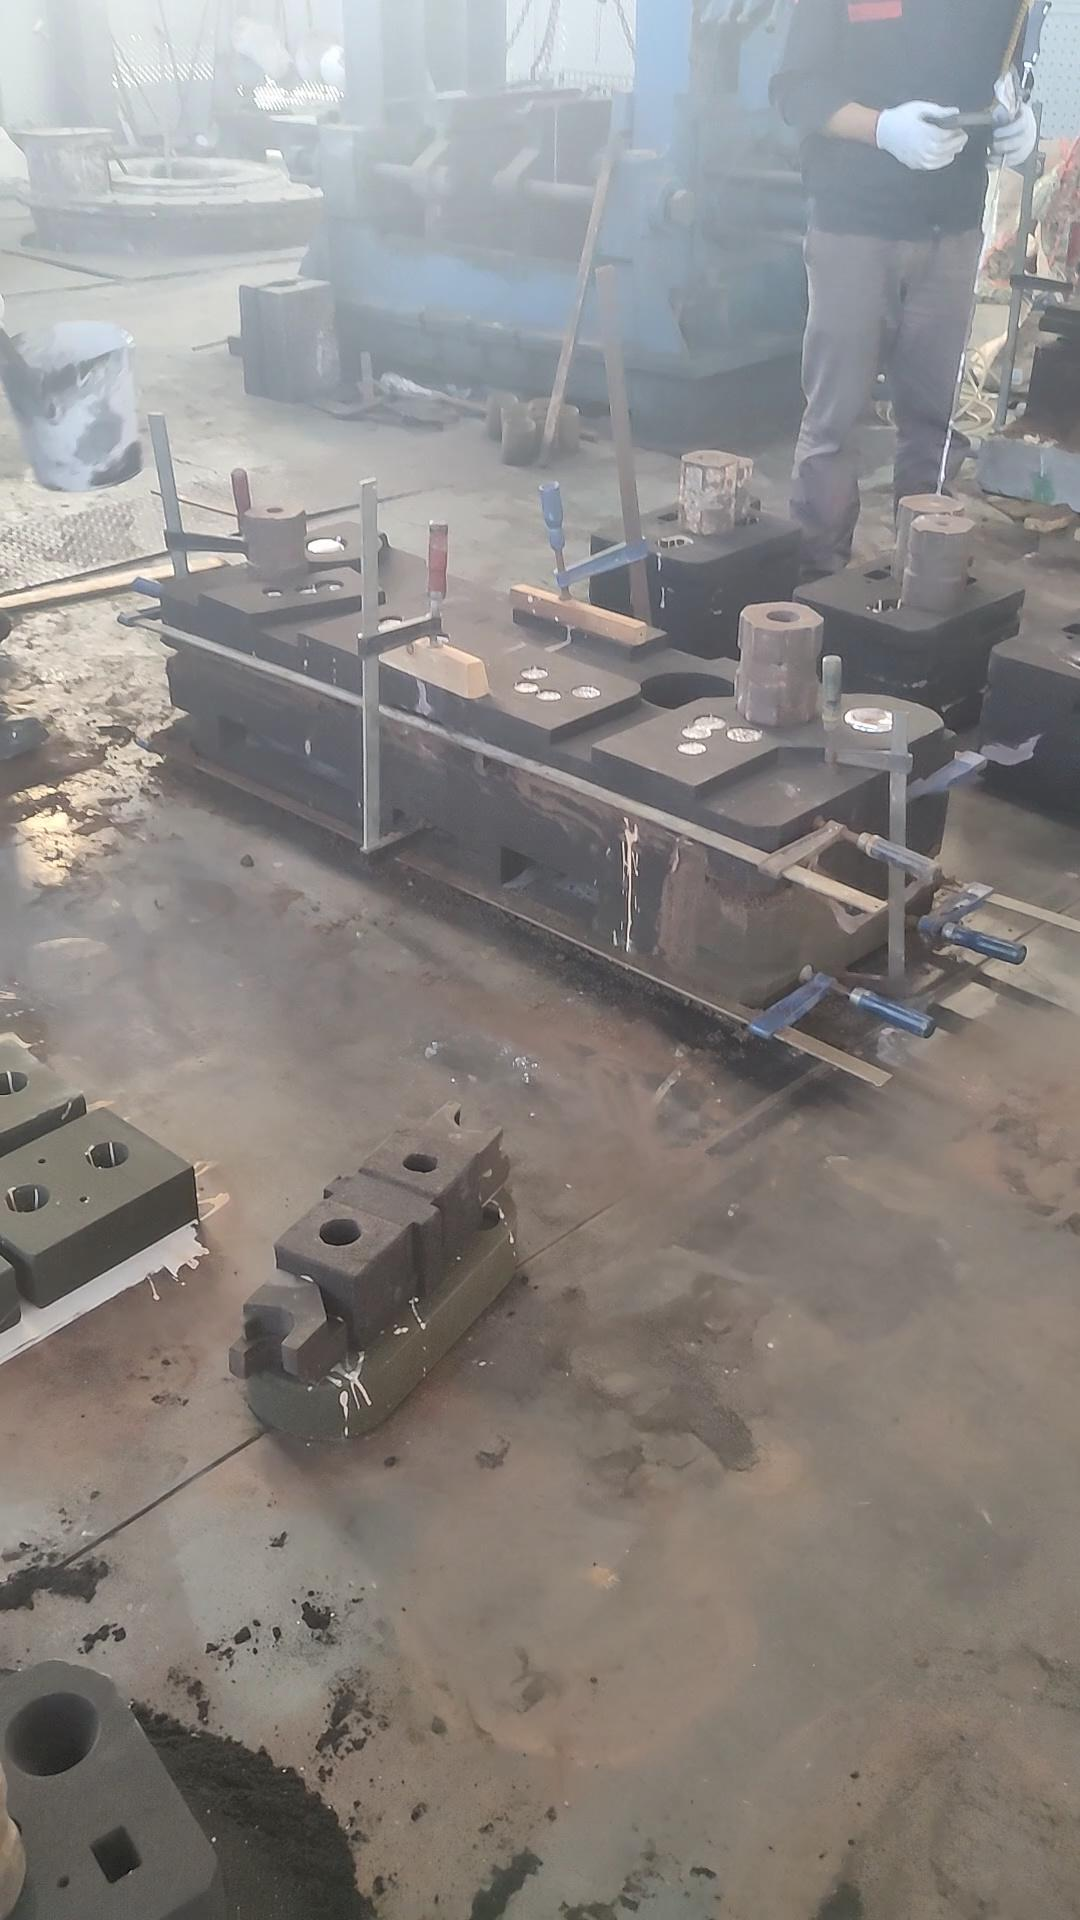pouring hole: (5, 1691, 99, 1778), (3, 1182, 50, 1213), (843, 705, 895, 731), (84, 1139, 129, 1168), (305, 535, 345, 553), (913, 537, 945, 558), (1, 1069, 26, 1096), (707, 480, 737, 500), (502, 417, 535, 431), (487, 390, 517, 405), (549, 404, 579, 415), (530, 396, 563, 406), (500, 401, 529, 411), (529, 410, 556, 421)
